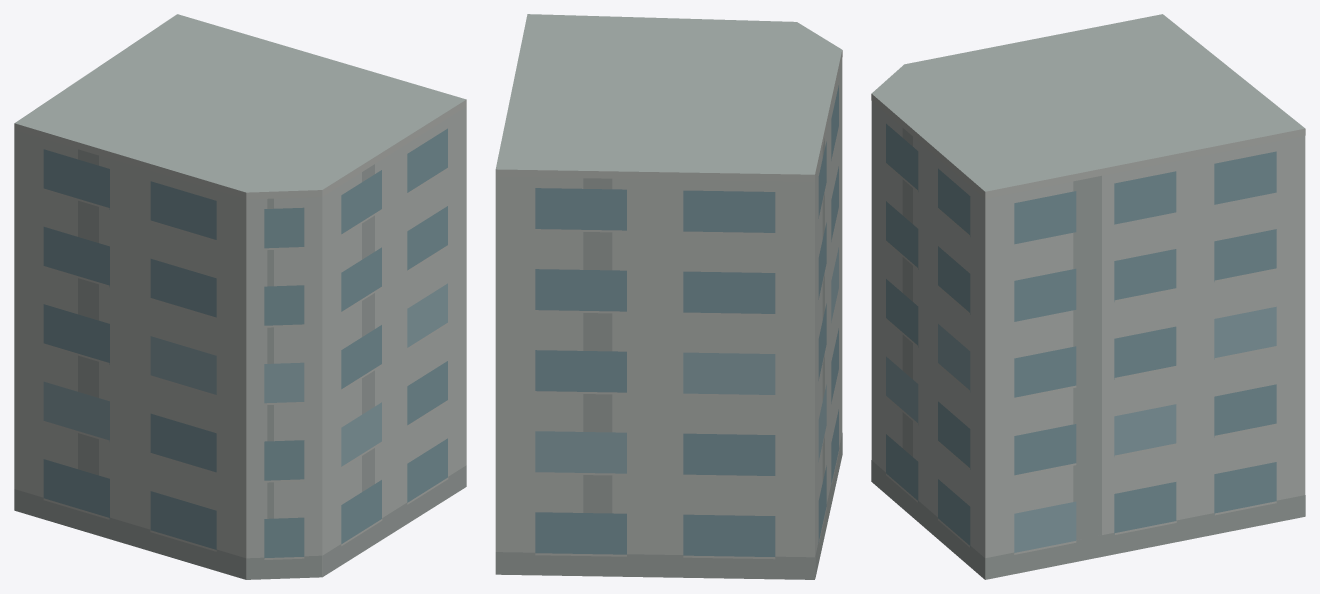
File: survey-upis-32640829.glb
The picture shows the model from 3 angles, left to right: view 1: azimuth 30°, elevation 25°; view 2: azimuth 150°, elevation 25°; view 3: azimuth 270°, elevation 25°; orthographic projection. The views are drawn at different scales.
Visible parts, largest first — view 1: survey-upis-32640829.tmp; view 2: survey-upis-32640829.tmp; view 3: survey-upis-32640829.tmp.
Part boxes in pixels (x1,y1,x2,y2): survey-upis-32640829.tmp: [14, 14, 466, 579]; survey-upis-32640829.tmp: [495, 14, 842, 579]; survey-upis-32640829.tmp: [871, 14, 1305, 579].
Bounding box in the file's own units: 13.27 × 13.5 × 13.69.
